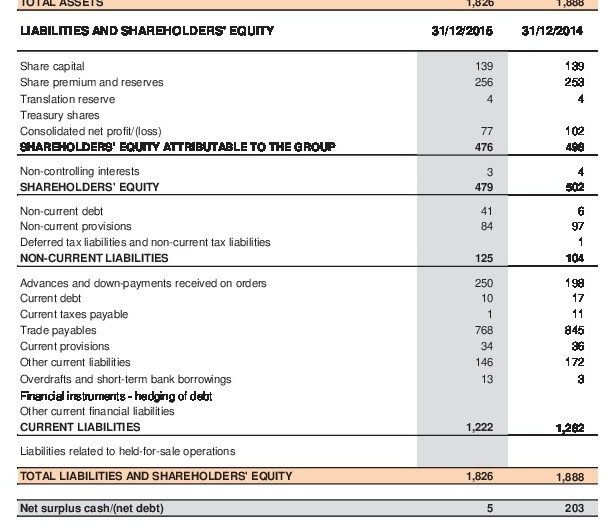table: (0, 0, 611, 532)
